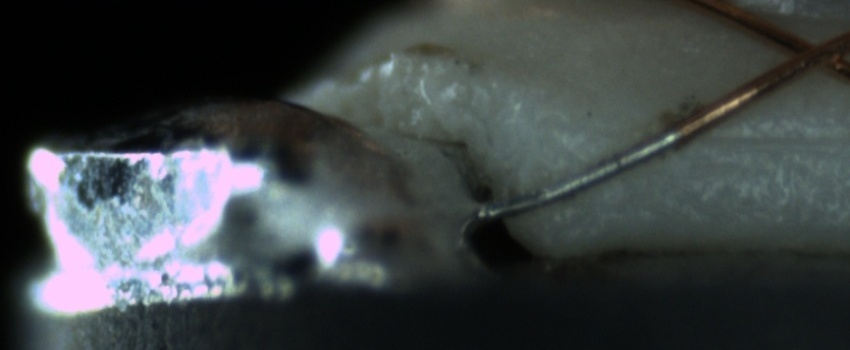CL: (774, 23, 849, 80)
DL: (700, 111, 849, 168)
TS: (479, 126, 684, 220)
